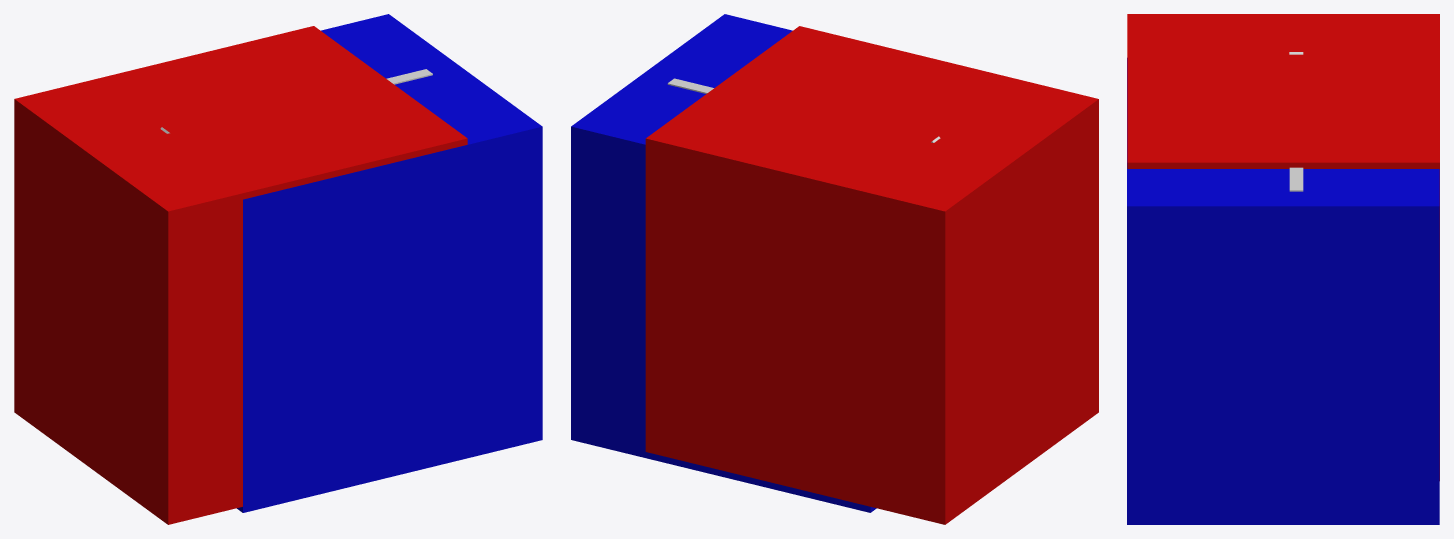
Rendered from asset.glb.
3 views of the same model, side by side, from view 1: azimuth 30°, elevation 25°; view 2: azimuth 150°, elevation 25°; view 3: azimuth 270°, elevation 25° (orthographic).
Parts seen in each view (by area): view 1: world; view 2: world; view 3: world.
Boxes of the visible parts, x1,y1,x2,y2 form: world: (14, 14, 542, 524); world: (571, 14, 1098, 524); world: (1127, 14, 1439, 524).
Bounding box in the file's own units: 0.9685 × 0.7948 × 0.6896.
